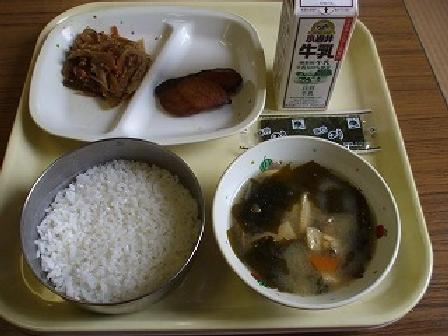Meat: (147, 55, 252, 133)
Milk: (271, 0, 365, 116)
Rice: (26, 141, 210, 306)
Soups: (217, 150, 405, 303)
cooked food based on meat: (59, 20, 155, 107)
